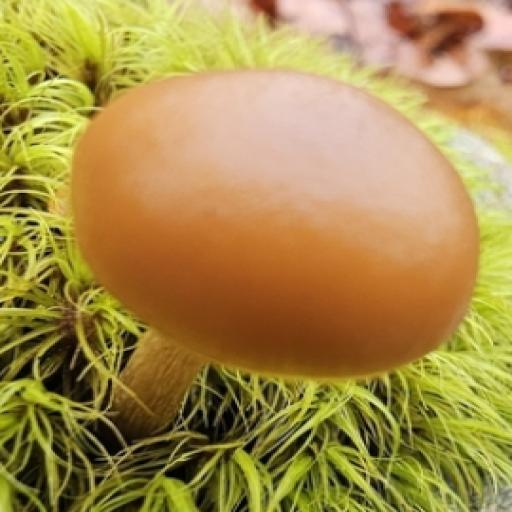mushroom: (24, 4, 511, 447)
